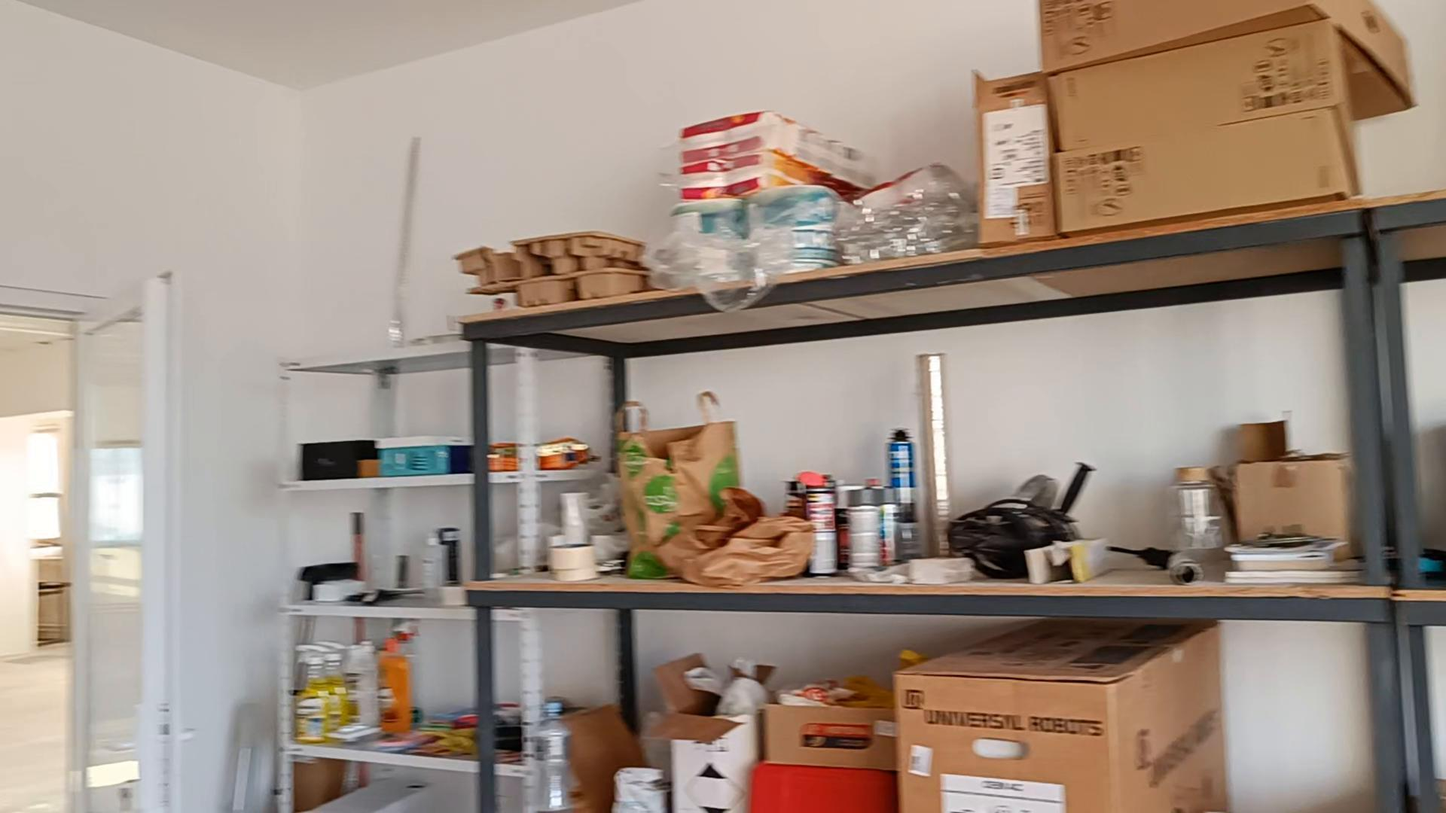ceiling: (10, 0, 636, 90)
wall: (0, 0, 1036, 812), (644, 300, 1343, 518), (1231, 639, 1359, 810)
